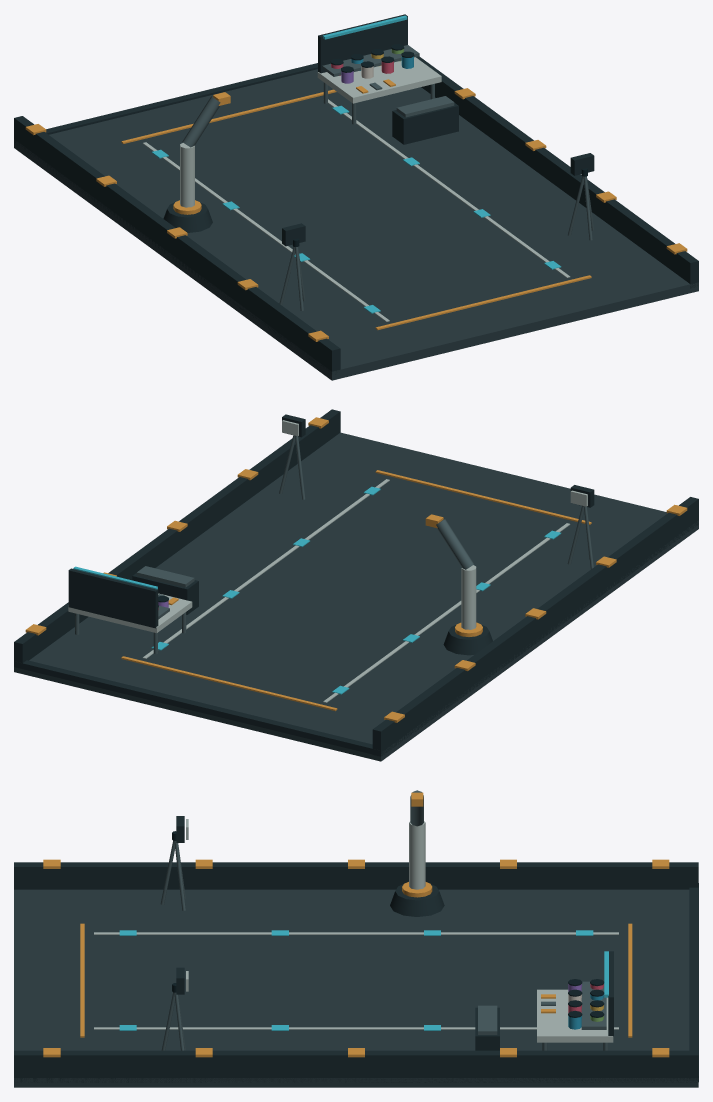
The model's file is mork_garage_d0_lod2.glb.
3 renders of one model, top to bottom at view 1: azimuth 30°, elevation 25°; view 2: azimuth 150°, elevation 25°; view 3: azimuth 270°, elevation 25°, orthographic. The views are drawn at different scales.
Visible parts, largest first — view 1: GARAGE_STATIC_BODY; view 2: GARAGE_STATIC_BODY; view 3: GARAGE_STATIC_BODY.
Boxes of the visible parts, bbox=[...] form: GARAGE_STATIC_BODY: bbox=[14, 14, 698, 380]; GARAGE_STATIC_BODY: bbox=[14, 409, 698, 761]; GARAGE_STATIC_BODY: bbox=[14, 790, 698, 1087].
Bounding box in the file's own units: 12.14 × 4.06 × 18.01.
